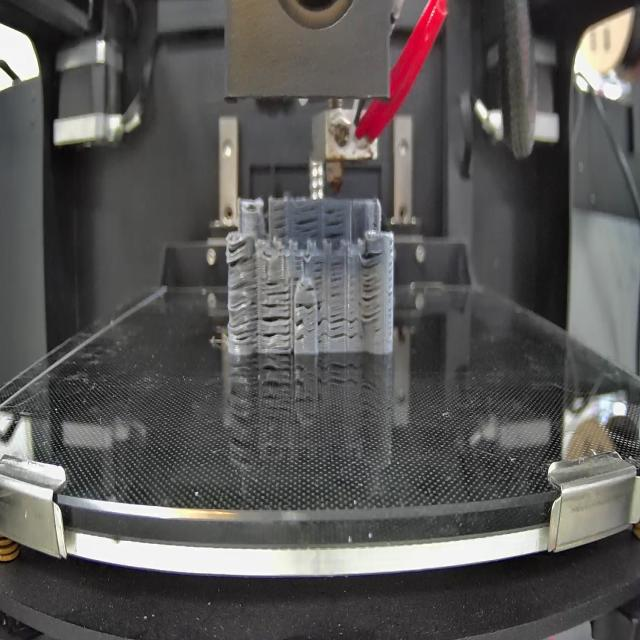cracks: (227, 286, 259, 344), (360, 248, 382, 326), (260, 303, 290, 348), (228, 240, 253, 270), (324, 208, 346, 241), (296, 208, 319, 235), (272, 204, 289, 240), (264, 278, 290, 298), (330, 308, 346, 339), (330, 261, 343, 296), (312, 255, 326, 285), (319, 302, 328, 341), (296, 296, 317, 312), (292, 252, 302, 285), (348, 314, 358, 344), (296, 319, 304, 346), (304, 284, 315, 296)
